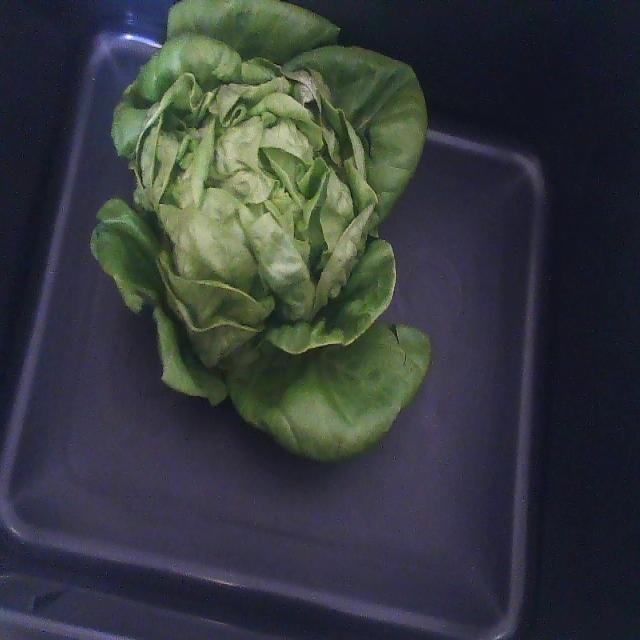lettuce: (91, 0, 429, 459)
